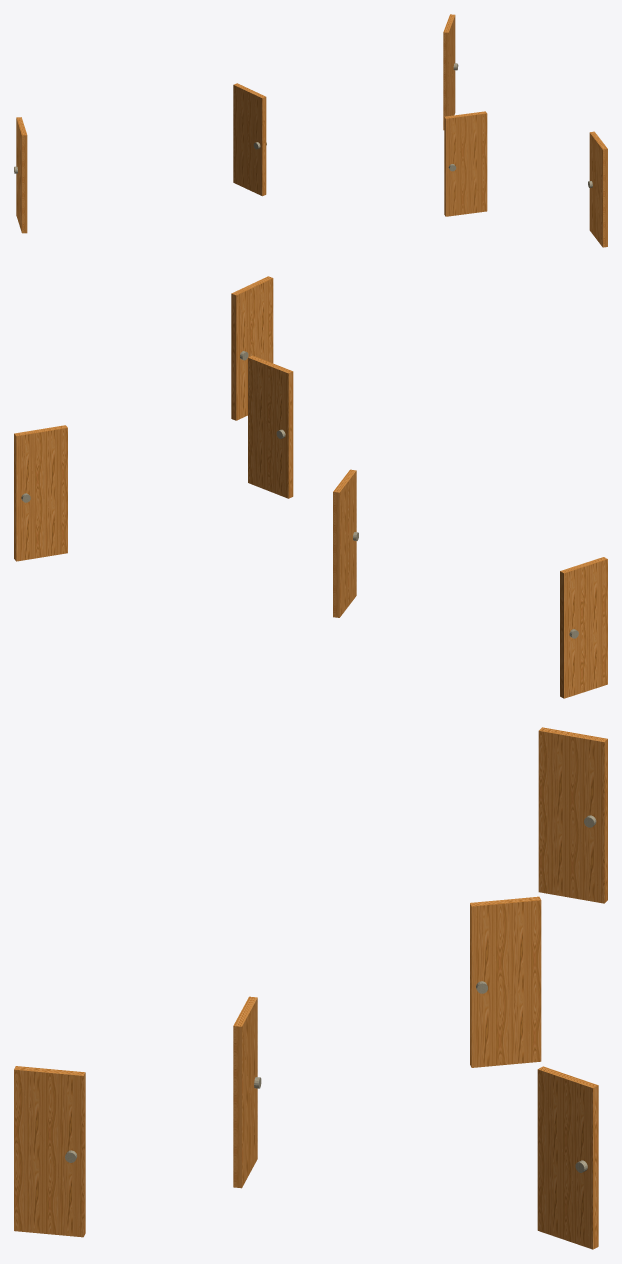
File: apartment_only_doors_31_08_19_28.fbx
3 views of the same model, one above another, from view 1: azimuth 30°, elevation 25°; view 2: azimuth 150°, elevation 25°; view 3: azimuth 270°, elevation 25° (orthographic). The views are drawn at different scales.
Visible parts, largest first — view 1: Door.005, Door.007, Door, Door.008, Door.006; view 2: Door.006, Door.008, Door.005, Door, Door.007; view 3: Door, Door.007, Door.008, Door.006, Door.005.
Part boxes in pixels (x1=…): Door.005: x1=444, y1=111, x2=487, y2=216; Door.007: x1=233, y1=83, x2=266, y2=196; Door: x1=589, y1=131, x2=607, y2=247; Door.008: x1=16, y1=117, x2=27, y2=233; Door.006: x1=443, y1=14, x2=455, y2=130; Door.006: x1=14, y1=425, x2=67, y2=561; Door.008: x1=560, y1=557, x2=607, y2=698; Door.005: x1=248, y1=355, x2=293, y2=498; Door: x1=231, y1=276, x2=273, y2=420; Door.007: x1=333, y1=469, x2=356, y2=617; Door: x1=14, y1=1066, x2=85, y2=1237; Door.007: x1=470, y1=896, x2=541, y2=1067; Door.008: x1=538, y1=727, x2=607, y2=903; Door.006: x1=537, y1=1066, x2=598, y2=1249; Door.005: x1=233, y1=996, x2=257, y2=1188.
Size of the model in its own units: 959 by 200 by 667.
